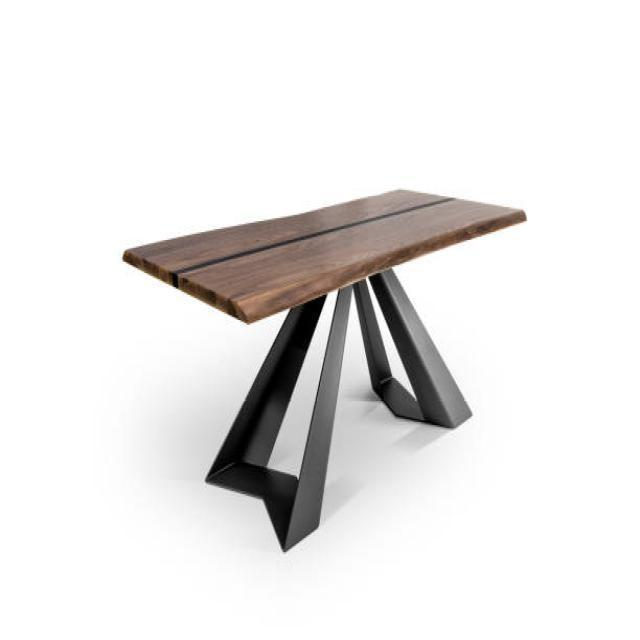table: (121, 185, 527, 552)
